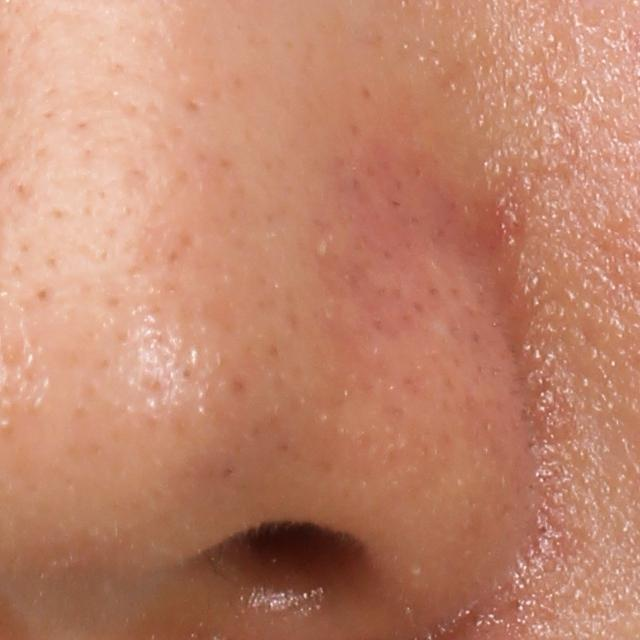comedo: (566, 83, 587, 104)
